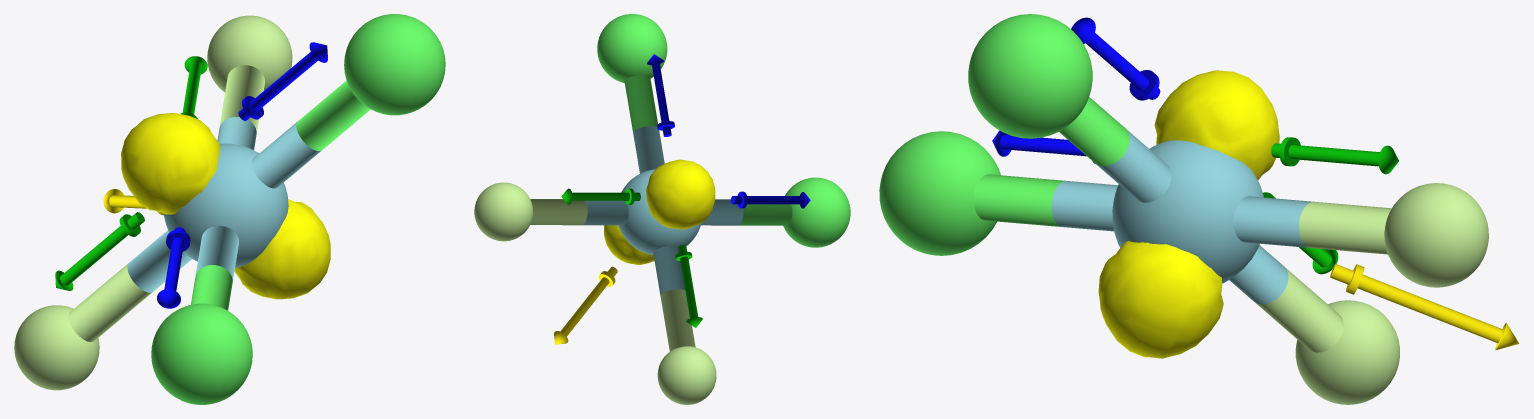
File: demo.gltf
3 renders of one model, left to right at view 1: azimuth 30°, elevation 25°; view 2: azimuth 150°, elevation 25°; view 3: azimuth 270°, elevation 25°, orthographic. The views are drawn at different scales.
Parts seen in each view (by area): view 1: cis-XeF2Cl2.001; view 2: cis-XeF2Cl2.001; view 3: cis-XeF2Cl2.001.
Part boxes in pixels (bbox=[...]): cis-XeF2Cl2.001: bbox=[14, 14, 445, 404]; cis-XeF2Cl2.001: bbox=[474, 14, 850, 404]; cis-XeF2Cl2.001: bbox=[879, 14, 1519, 404].
Bounding box in the file's own units: 3.02 × 3.6 × 4.13.
